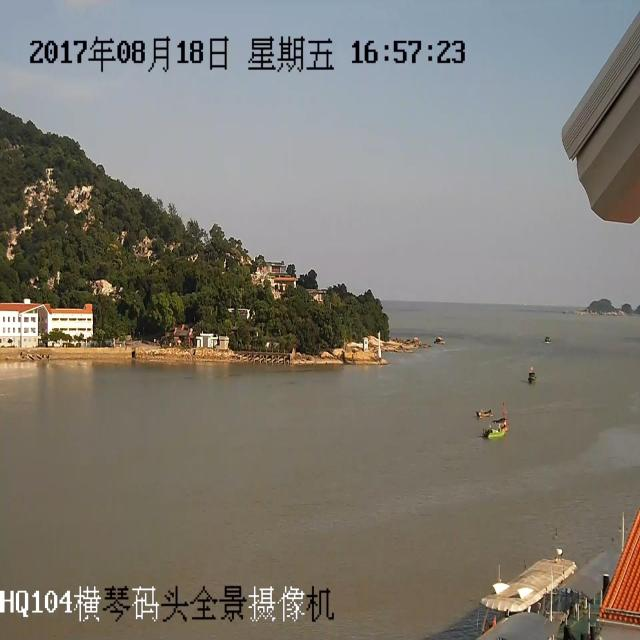fishing boat: (478, 405, 512, 442), (516, 366, 540, 388), (535, 323, 554, 346)
reef: (564, 280, 636, 325)
